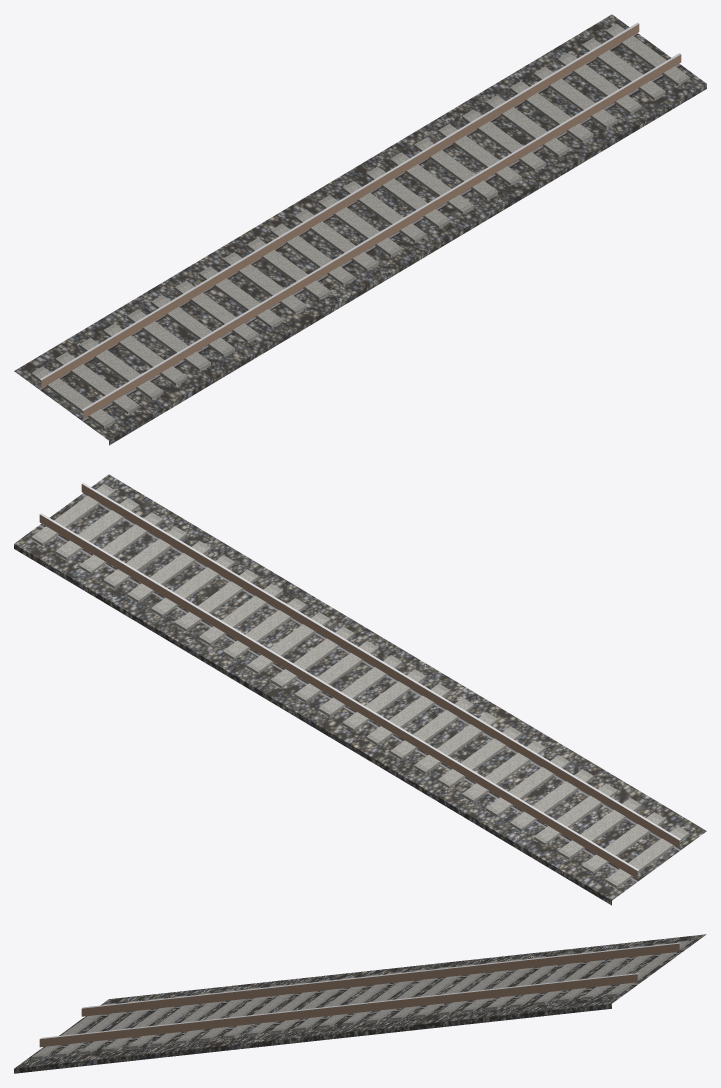
Rendered from kolej_svah_oci_beton_siroka.glb.
3 renders of one model, top to bottom at view 1: azimuth 30°, elevation 25°; view 2: azimuth 150°, elevation 25°; view 3: azimuth 330°, elevation 25°, orthographic.
Visible parts, largest first — view 1: kolej_svah_oci_beton_siroka; view 2: kolej_svah_oci_beton_siroka; view 3: kolej_svah_oci_beton_siroka.
Part boxes in pixels (x1,y1,x2,y2): kolej_svah_oci_beton_siroka: (14,14,706,445); kolej_svah_oci_beton_siroka: (14,474,706,905); kolej_svah_oci_beton_siroka: (14,934,706,1073).
Bounding box in the file's own units: 14.84 × 5.37 × 4.08.
4 materials, 2 textured.
